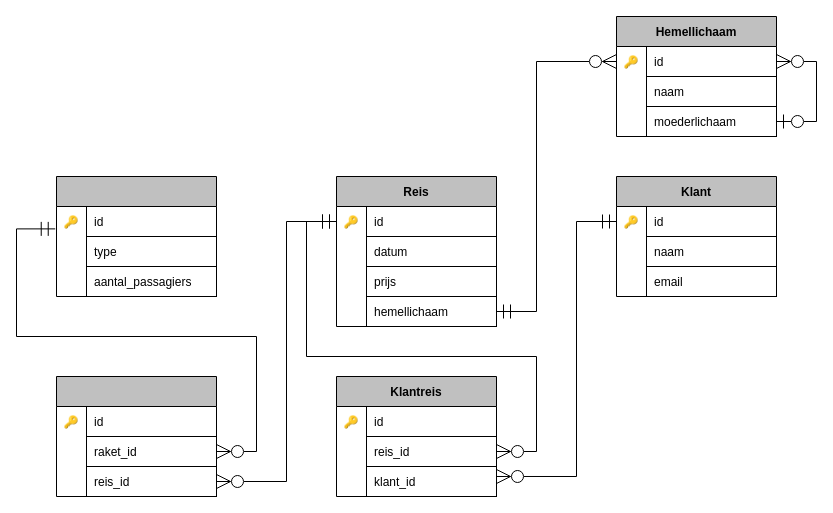
Image size: 833x513. Some labels were removed from this diagram. Here are the shapes that lost their labels. From the top down, the box of each, then its label:
(56, 176, 216, 296): Raket
(56, 376, 216, 496): Reisraket
